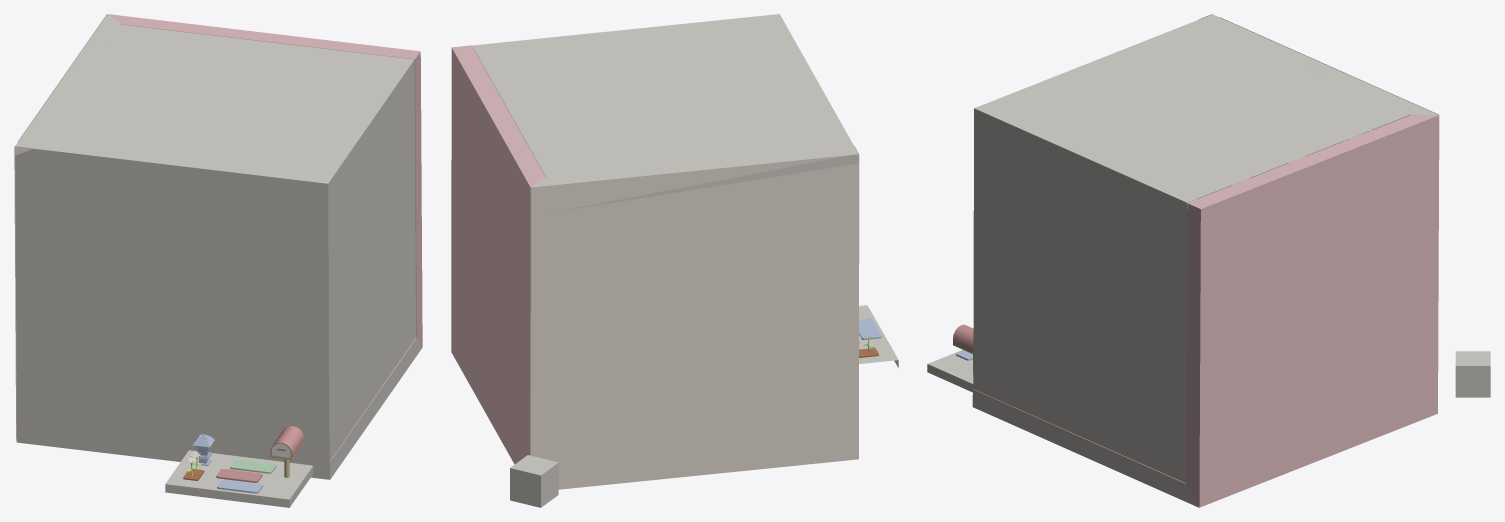
The model's file is FinalRoomV7.glb.
3 views of the same model, side by side, from view 1: azimuth 30°, elevation 25°; view 2: azimuth 150°, elevation 25°; view 3: azimuth 270°, elevation 25° (orthographic). The views are drawn at different scales.
Parts seen in each view (by area): view 1: Cube, Wall, Floor, Mailbox, False Wall, Floor Pad.001, Floor Pad.002, Floor Pad.003; view 2: False Wall, Cube, Wall, Room Cube, Floor; view 3: Cube, Wall, Room Cube, Floor.
Part boxes in pixels (bbox=[...]): Cube: bbox=[33, 24, 415, 461]; Wall: bbox=[15, 14, 422, 479]; Floor: bbox=[165, 450, 313, 507]; Mailbox: bbox=[270, 426, 303, 477]; False Wall: bbox=[14, 14, 106, 441]; Floor Pad.001: bbox=[230, 459, 276, 473]; Floor Pad.002: bbox=[216, 469, 262, 482]; Floor Pad.003: bbox=[217, 479, 262, 493]; False Wall: bbox=[531, 146, 859, 489]; Cube: bbox=[472, 14, 853, 176]; Wall: bbox=[451, 45, 858, 464]; Room Cube: bbox=[510, 455, 558, 507]; Floor: bbox=[859, 305, 898, 367]; Cube: bbox=[973, 20, 1410, 482]; Wall: bbox=[972, 14, 1439, 507]; Room Cube: bbox=[1455, 351, 1490, 397]; Floor: bbox=[927, 350, 973, 392].
Bounding box in the file's own units: 34.94 × 24.74 × 42.09.
